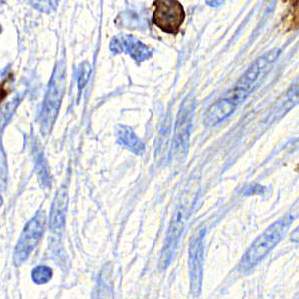Lymphocyte: (152, 1, 185, 35)
